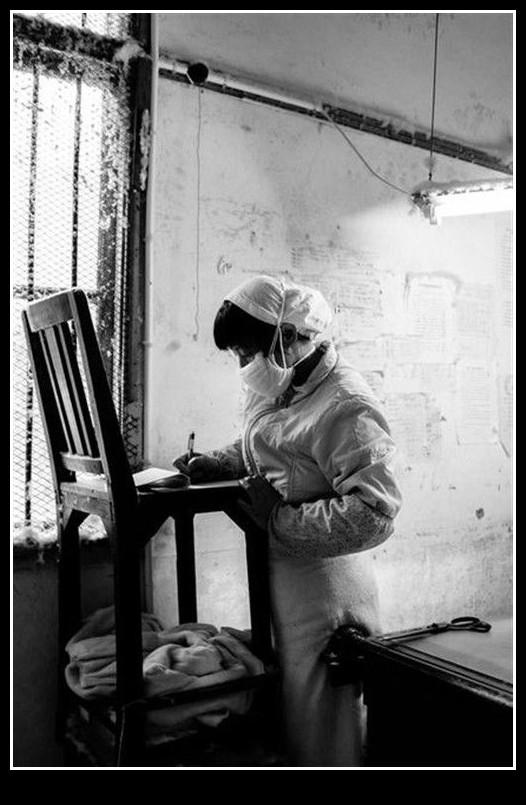OK: (234, 340, 303, 409)
